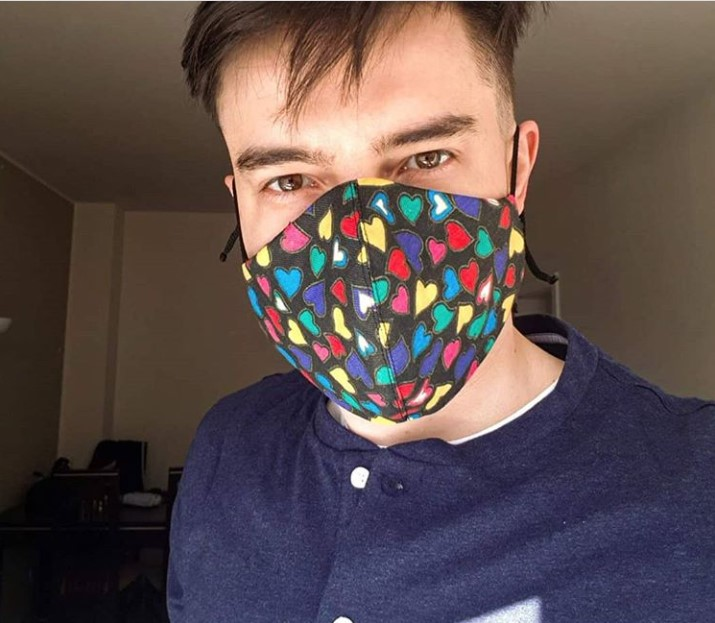face_with_mask: (205, 5, 550, 424)
